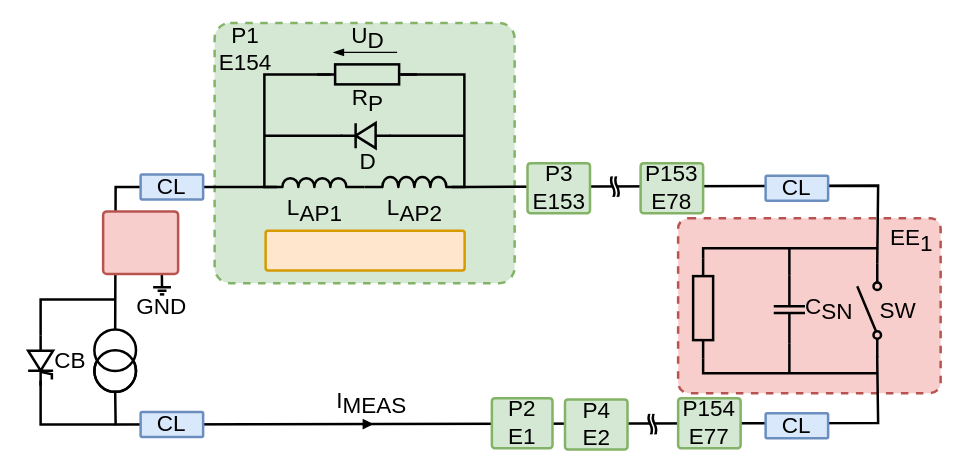
Image size: 970x473. Some labels were removed from this diagram. The box of each missing label's shape, as (x1, y1, x2, y2) in pixels:
EE 2: (101, 210, 179, 274)
PC: (92, 328, 137, 392)
Quench Heaters: (264, 229, 465, 271)
R EE: (691, 256, 714, 359)
